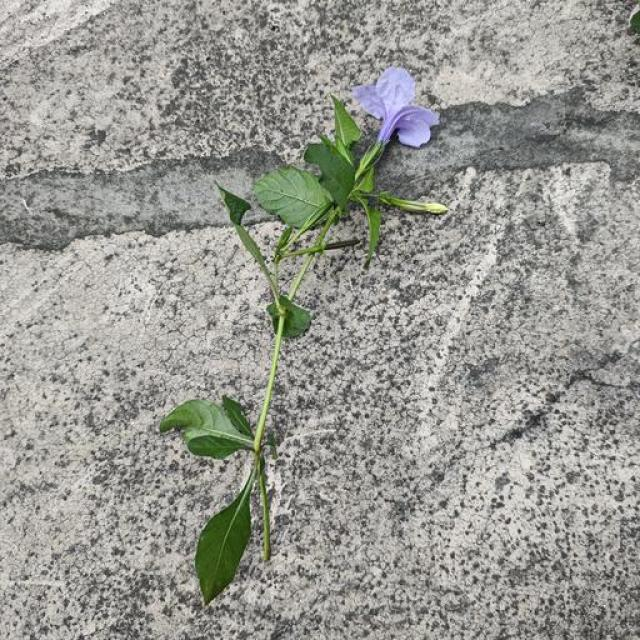organic: (160, 98, 444, 603), (195, 470, 254, 603), (219, 187, 277, 297), (160, 400, 252, 458), (254, 167, 331, 227), (304, 143, 354, 209), (357, 197, 381, 266), (332, 97, 361, 148), (379, 193, 447, 214), (280, 295, 311, 337), (222, 395, 252, 438), (219, 185, 251, 224), (363, 200, 381, 264), (358, 167, 374, 193), (632, 9, 639, 33)
